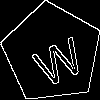W: (27, 28, 88, 89)
